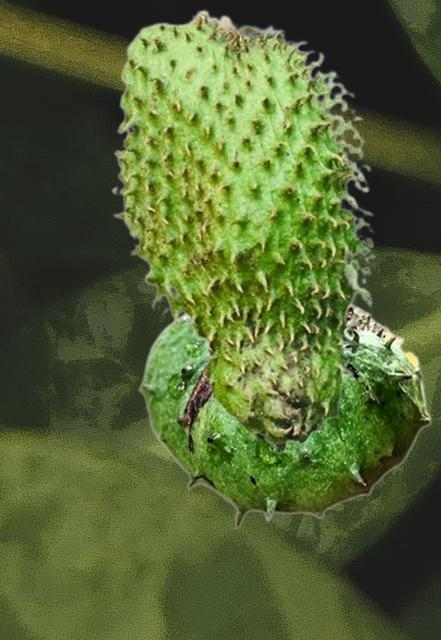guyabano: (110, 8, 377, 454), (138, 304, 431, 529)
